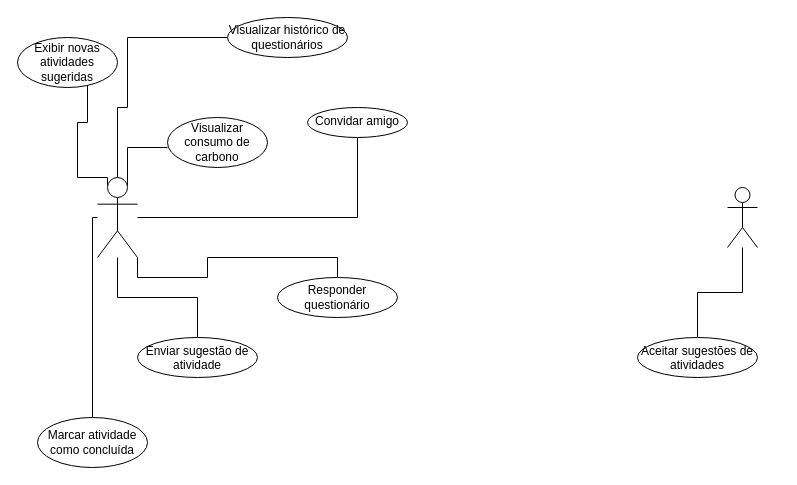
Some shapes in this 797 by 485 pixel diagram are drawn without their labels. The shapes that lost their labels are listed below. From the top down, each one's centre as x and y in pixels, then its label:
(x=117, y=217): Usuário
(x=742, y=217): Administrador
